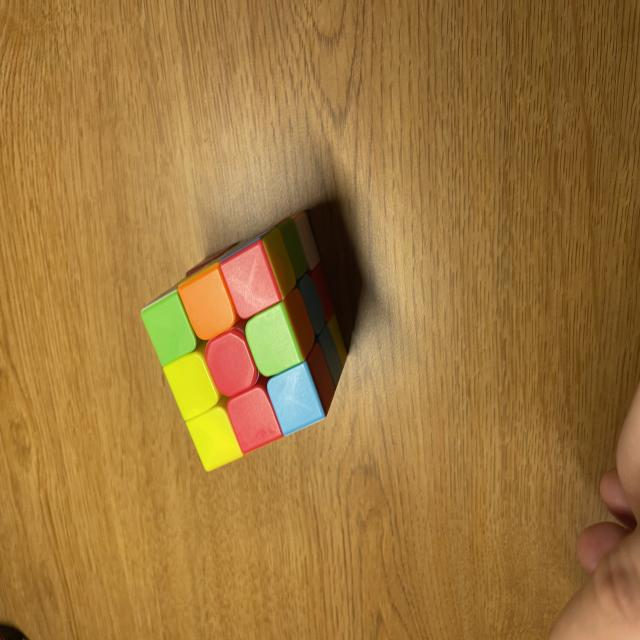Rubiks Cube: (140, 209, 348, 474)
